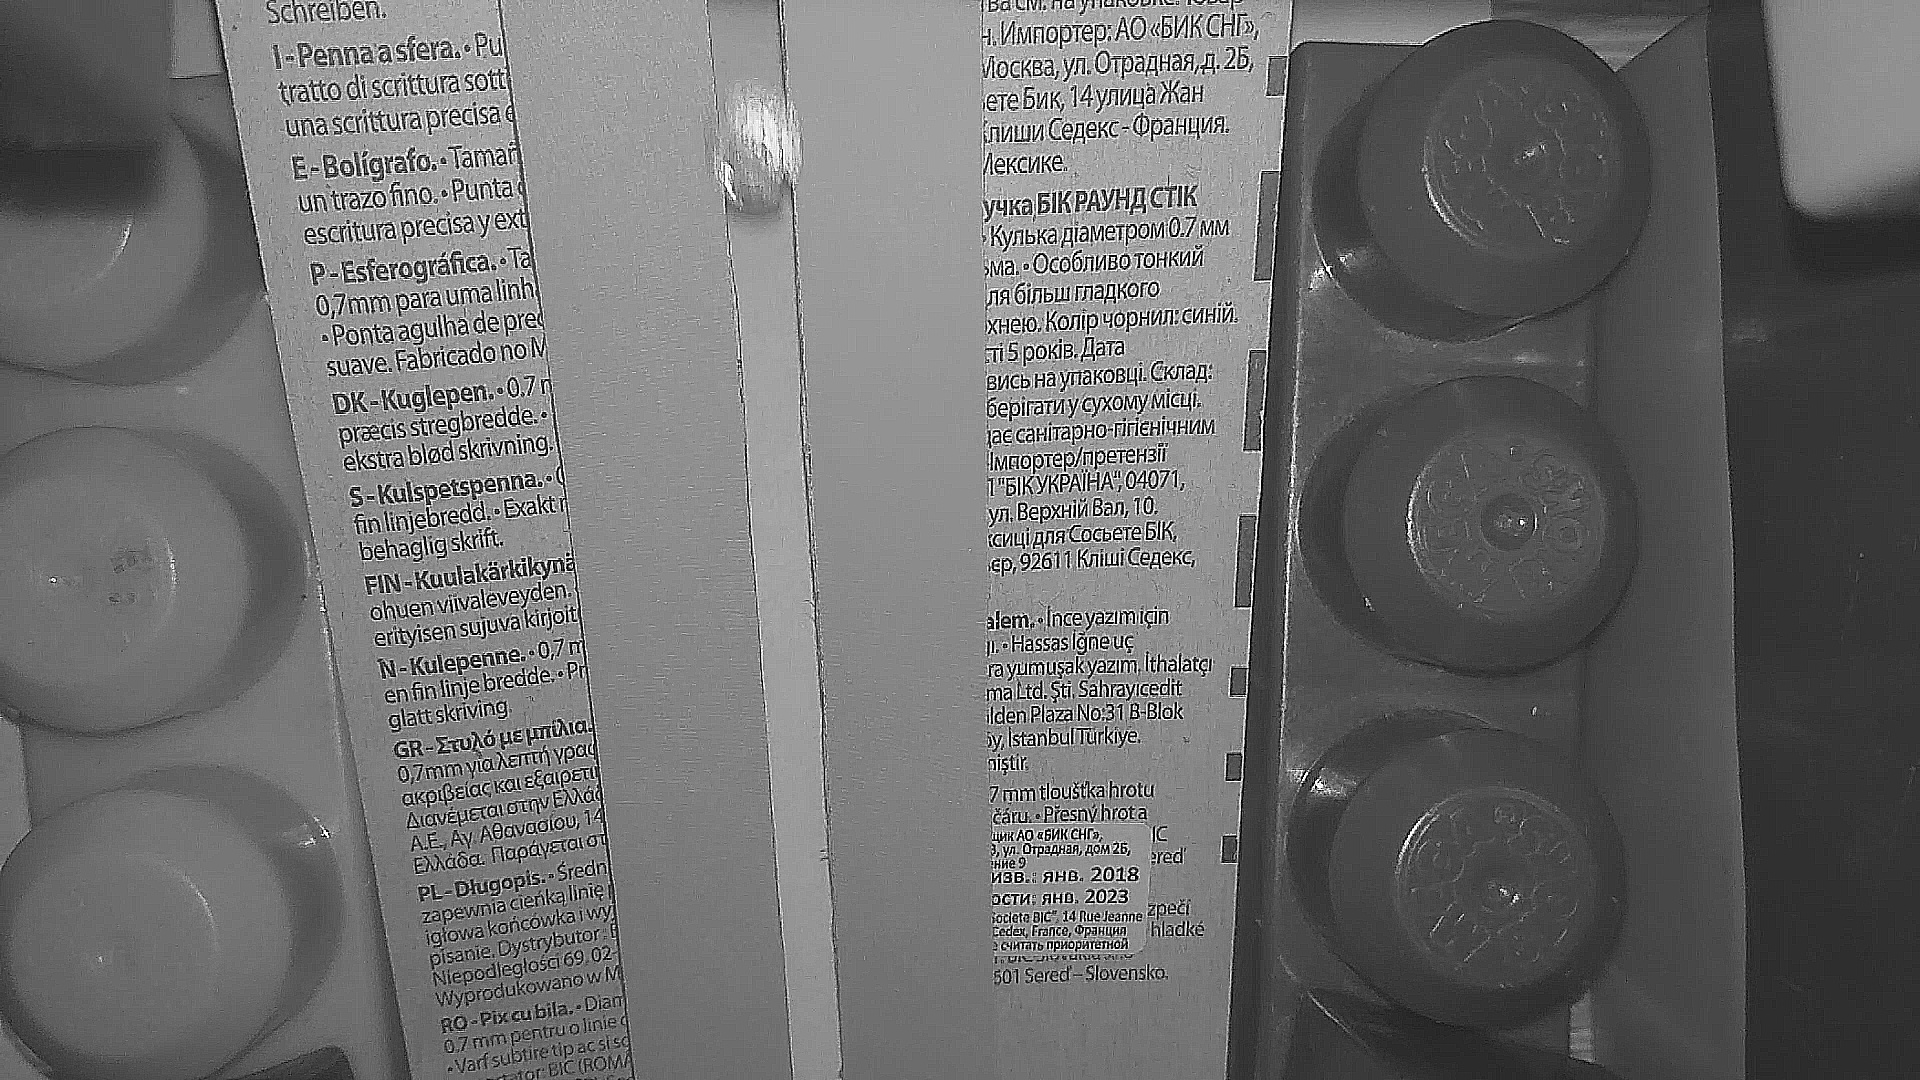i: (708, 99, 802, 208)
